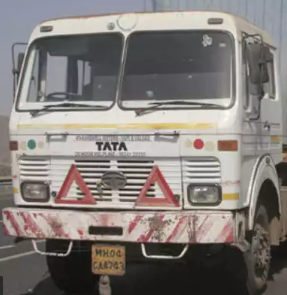truck: (5, 1, 285, 292)
